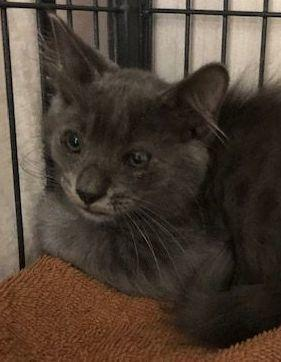rblue: (28, 20, 227, 245)
